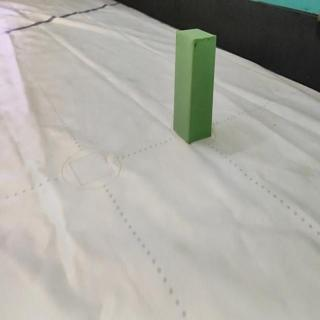greenbox: (173, 29, 217, 144)
